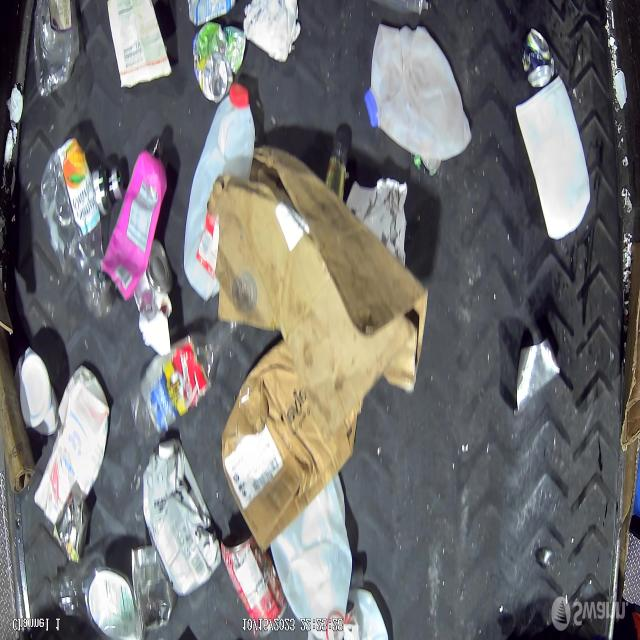can: (194, 22, 248, 105), (132, 545, 177, 631), (517, 336, 562, 415), (134, 238, 174, 322), (47, 496, 90, 564), (522, 30, 556, 89)
milk_jug: (183, 83, 256, 303), (364, 21, 473, 162), (270, 473, 352, 640)
non_white_jug: (144, 439, 222, 597)
plastic_bottle: (39, 135, 119, 322), (134, 328, 225, 439), (51, 558, 146, 640), (32, 0, 81, 99)
